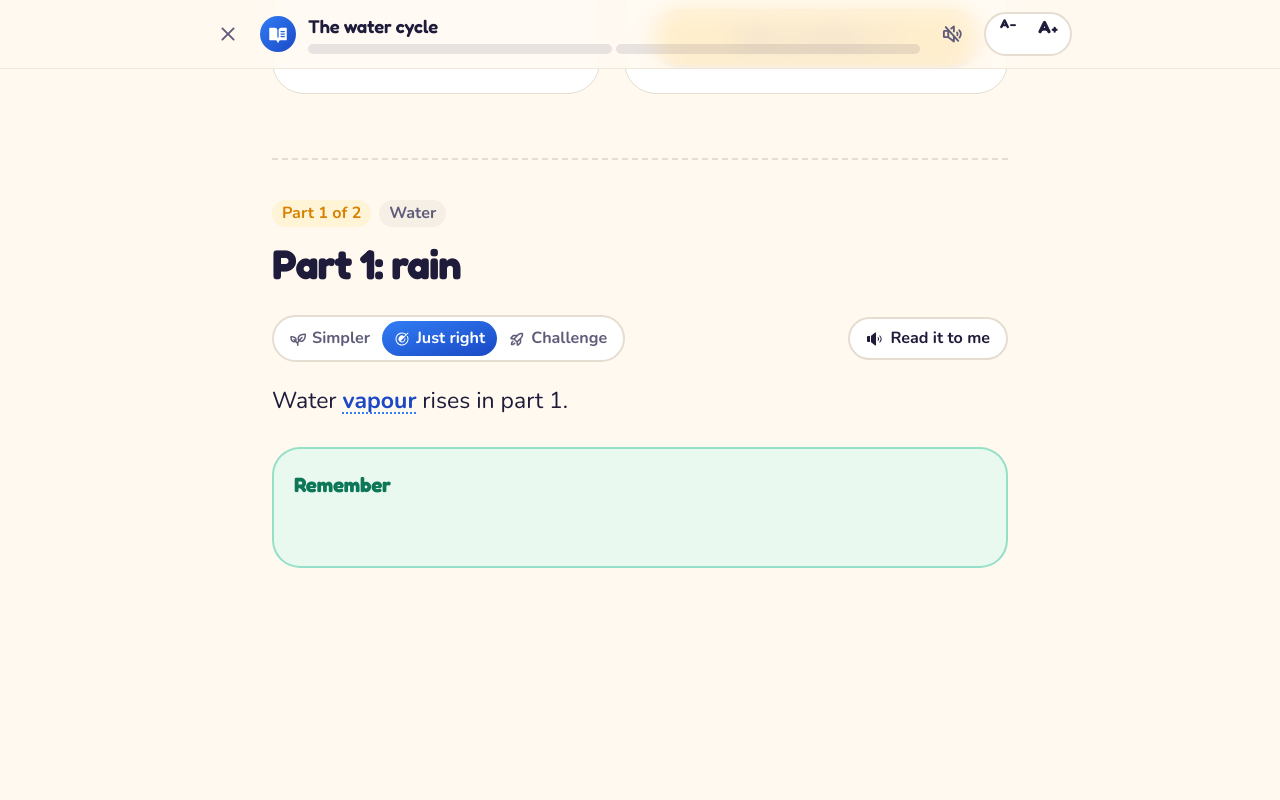
Test: GuidePlayer › opens a word to know with its meaning and its Malay
The image size is (1280, 800).
(page scrolled)
Click the button "vapour" at (379, 401), box [342,382,416,419]
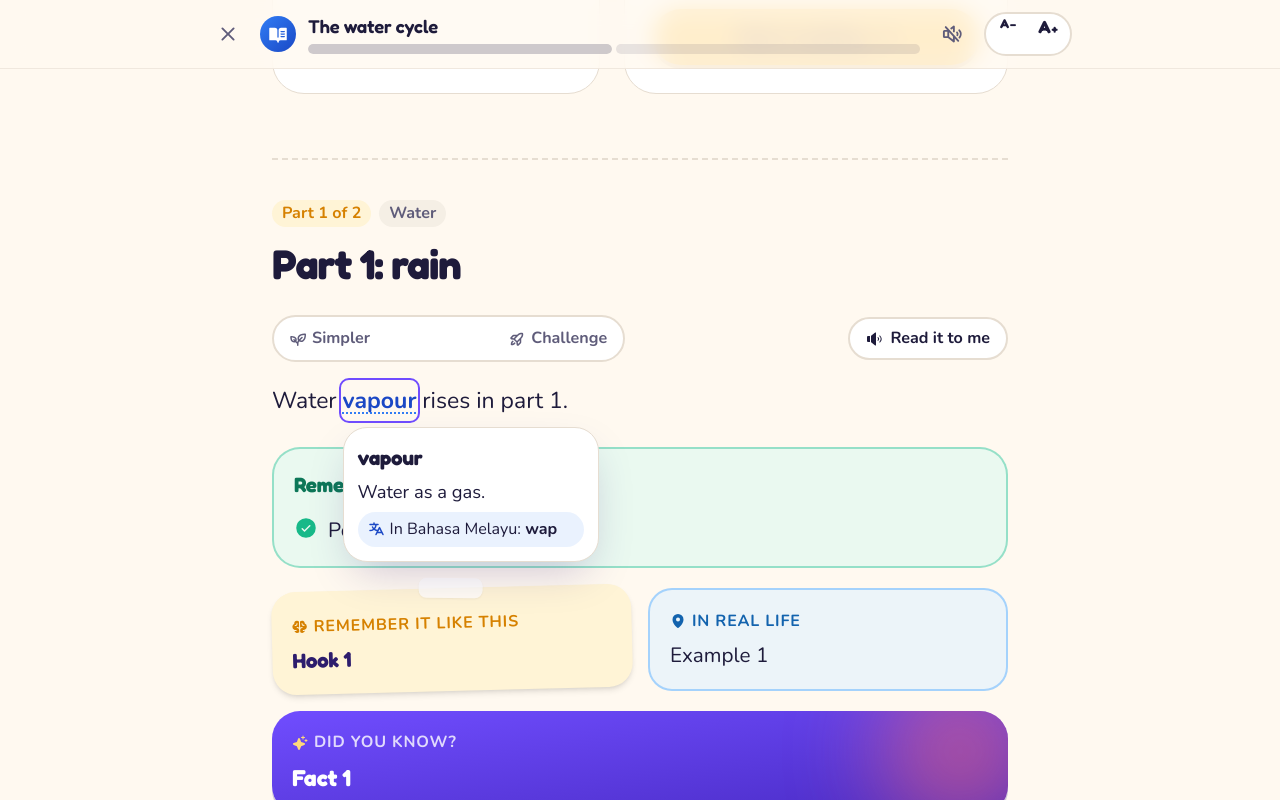
Check: the text "Water as a gas." is shown, box [358,479,485,504]
Check: the text "wap" is shown, box [525,518,557,540]
